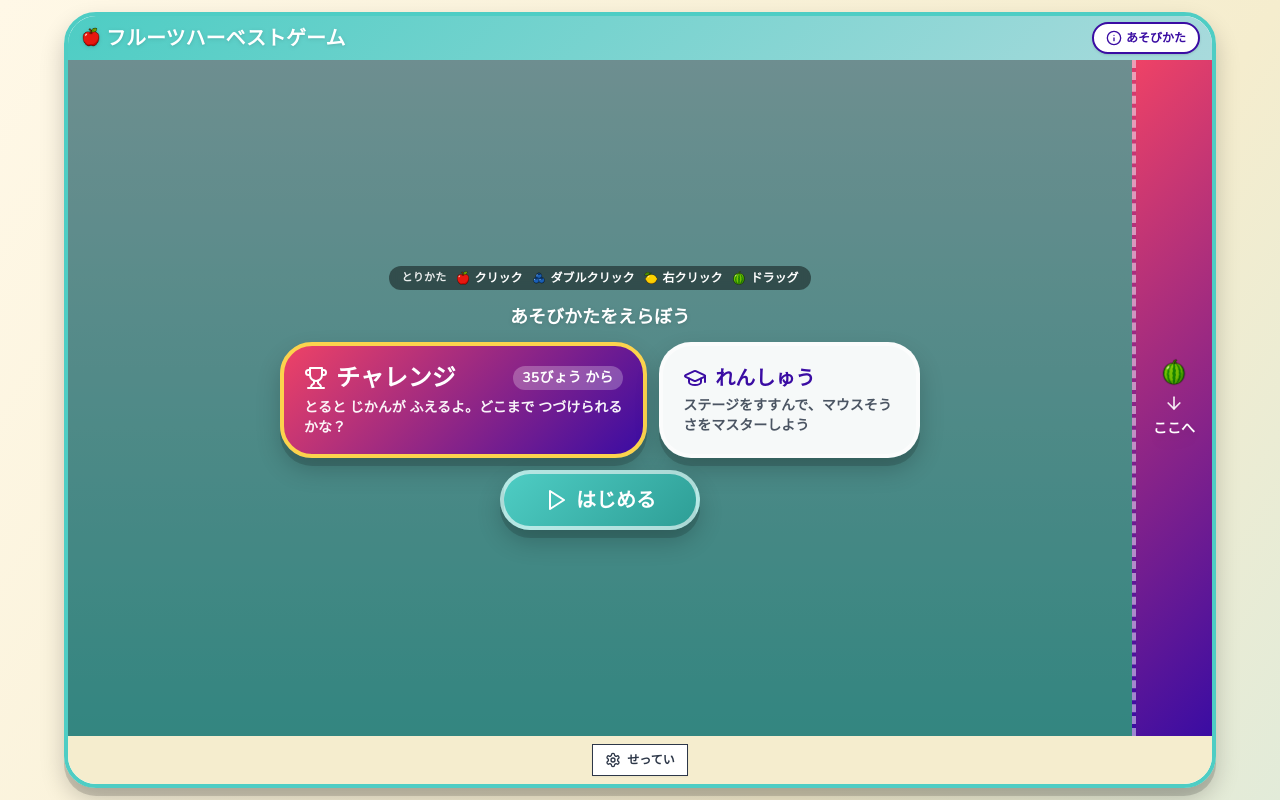
Scenario: 待機中のヘッダと Enter での開始は、選んでいるモードに従う › れんしゅうを選んで始めると、ステージの表示とステージ目標が出る
Click the button with test id "mode-select-practice": (790, 400) [659,342,920,458]
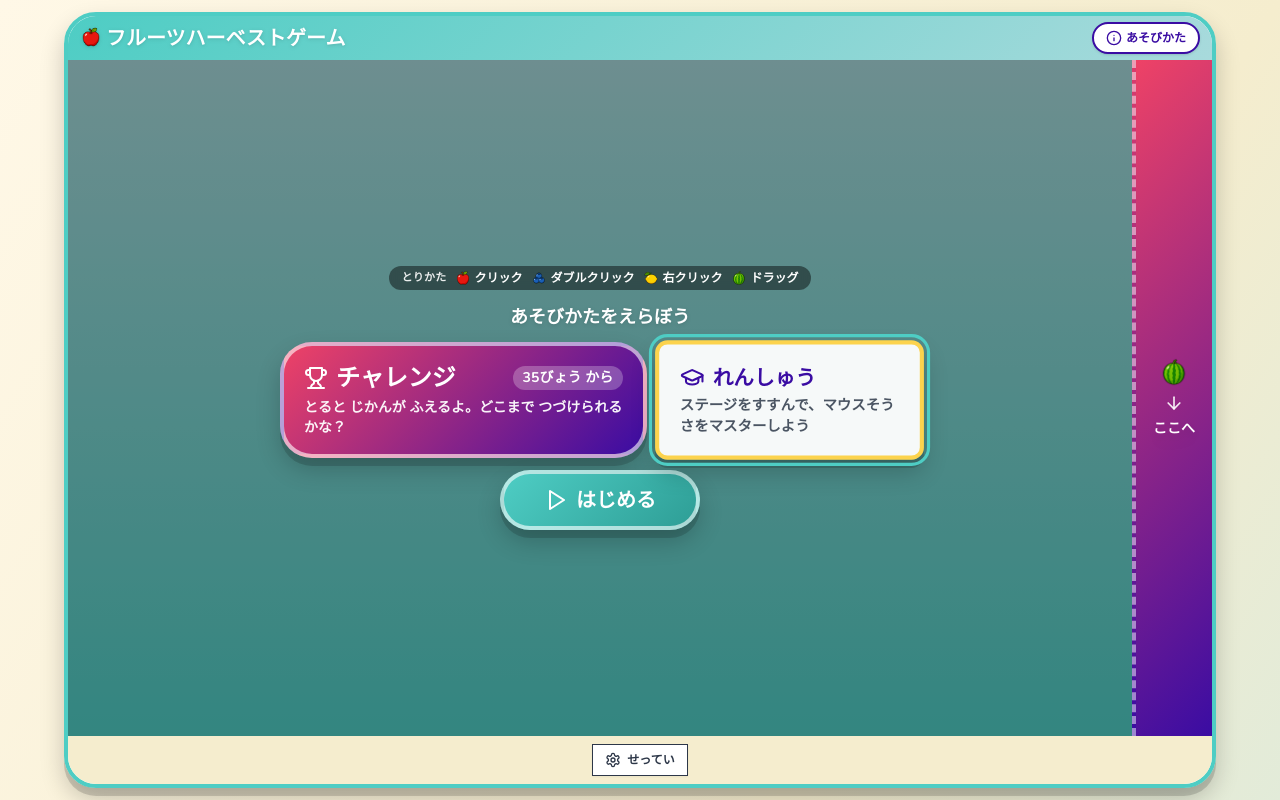
Click the button with test id "mode-start": (600, 500) [500,470,700,530]
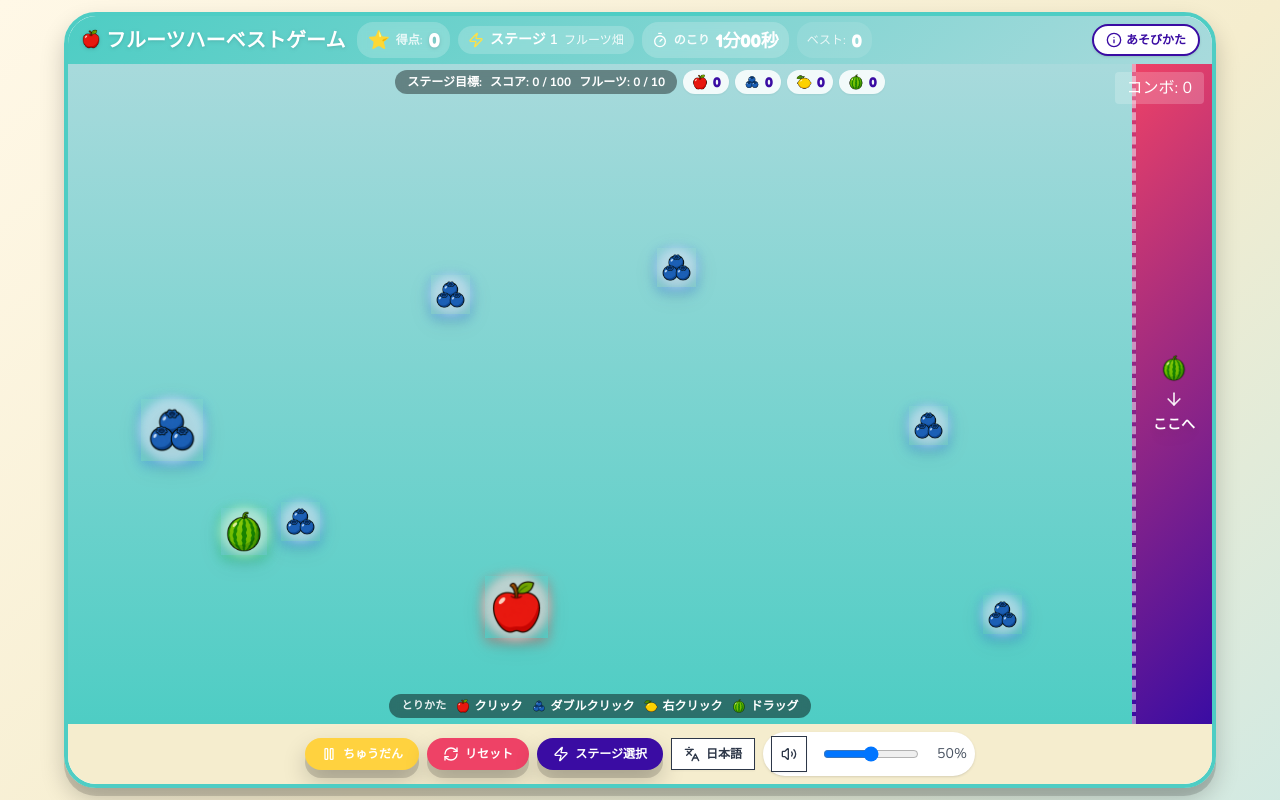
Check: the text "ステージ目標:" is shown, box [407,74,482,90]
Check: the text "フルーツ畑" is shown, box [564,32,624,48]
